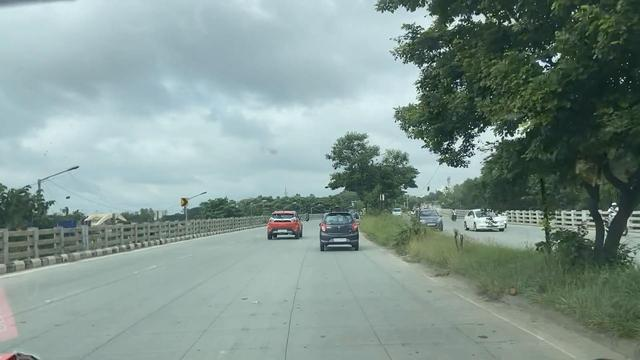LMV: (321, 209, 360, 252), (267, 210, 302, 236)
